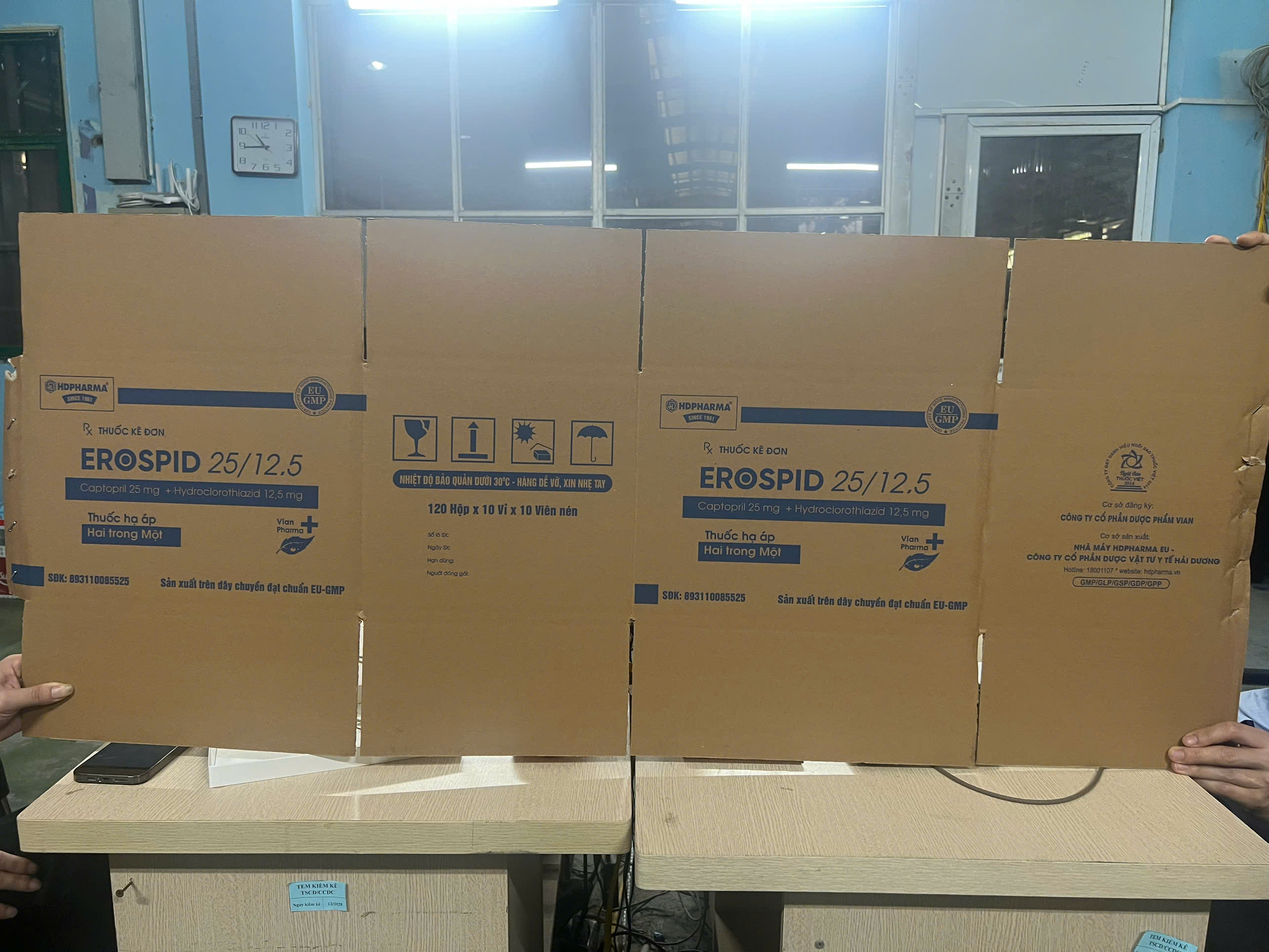box: (0, 205, 1269, 786)
